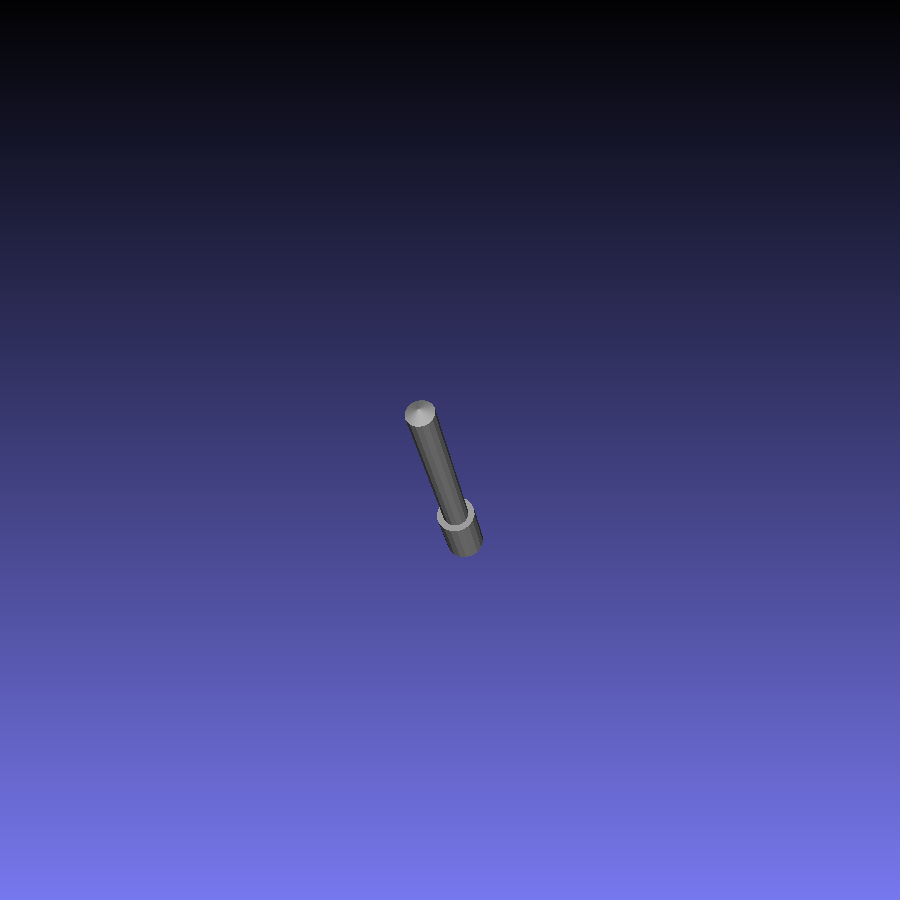cargo_g: (405, 399, 487, 557)
